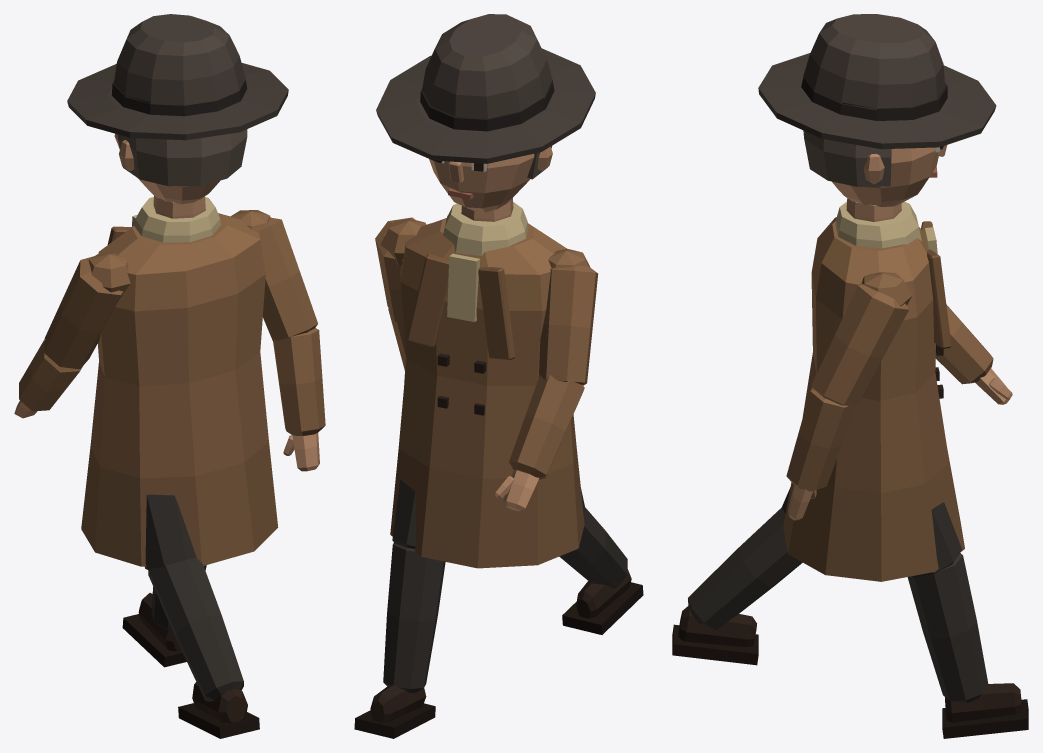
Rendered from chr_uncle_w2.glb.
3 renders of one model, left to right at view 1: azimuth 30°, elevation 25°; view 2: azimuth 150°, elevation 25°; view 3: azimuth 270°, elevation 25°, orthographic. The views are drawn at different scales.
Visible parts, largest first — view 1: chr_uncle_w2; view 2: chr_uncle_w2; view 3: chr_uncle_w2.
Boxes of the visible parts, bbox=[...] form: chr_uncle_w2: bbox=[14, 14, 325, 738]; chr_uncle_w2: bbox=[354, 14, 643, 738]; chr_uncle_w2: bbox=[672, 14, 1028, 738].
Size of the model in its own units: 0.6263 by 1.73 by 0.8153.
